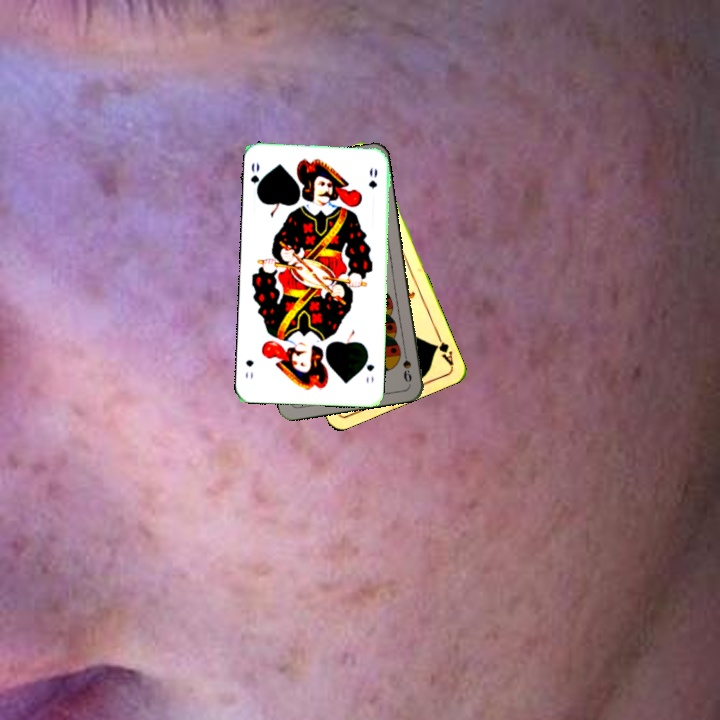GA: (431, 329, 456, 368)
GO: (246, 158, 266, 198), (360, 350, 377, 385)
S9: (399, 344, 414, 385)
